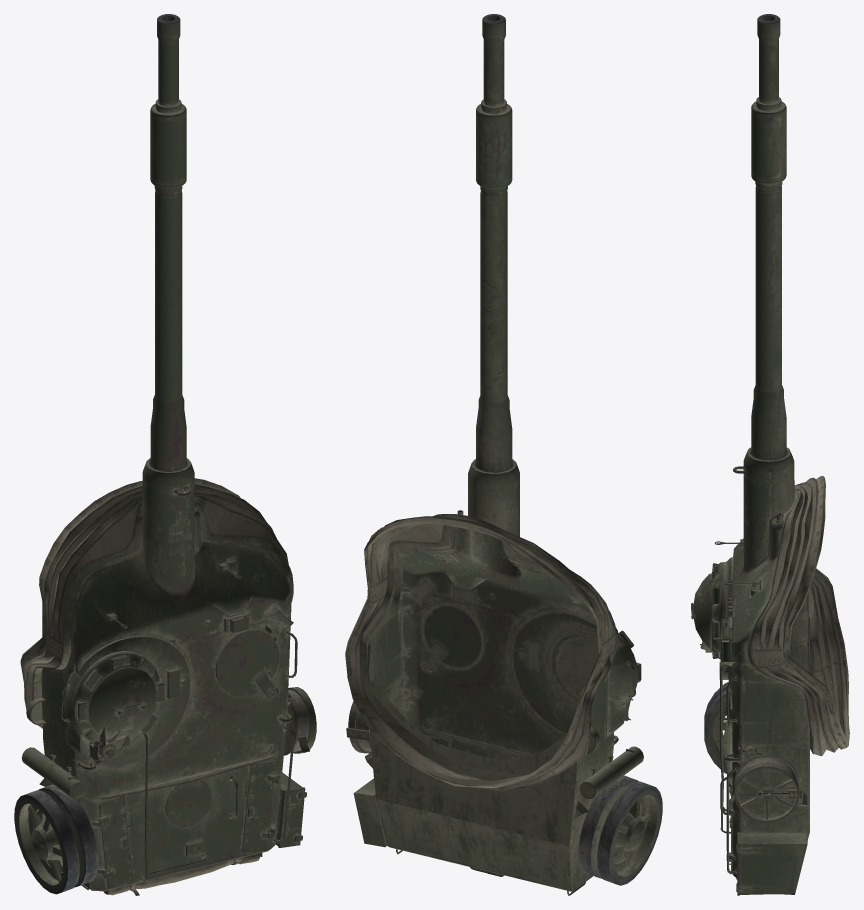
The model's file is Gun_01.glb.
3 views of the same model, side by side, from view 1: azimuth 30°, elevation 25°; view 2: azimuth 150°, elevation 25°; view 3: azimuth 270°, elevation 25° (orthographic). The views are drawn at different scales.
Parts seen in each view (by area): view 1: set_0_group_0; view 2: set_0_group_0; view 3: set_0_group_0.
Boxes of the visible parts, <box> form: set_0_group_0: <box>14,14,316,895</box>; set_0_group_0: <box>345,14,662,895</box>; set_0_group_0: <box>691,14,849,895</box>.
Size of the model in its own units: 1.84 by 5.5 by 0.9515.
1 material, 1 textured.
